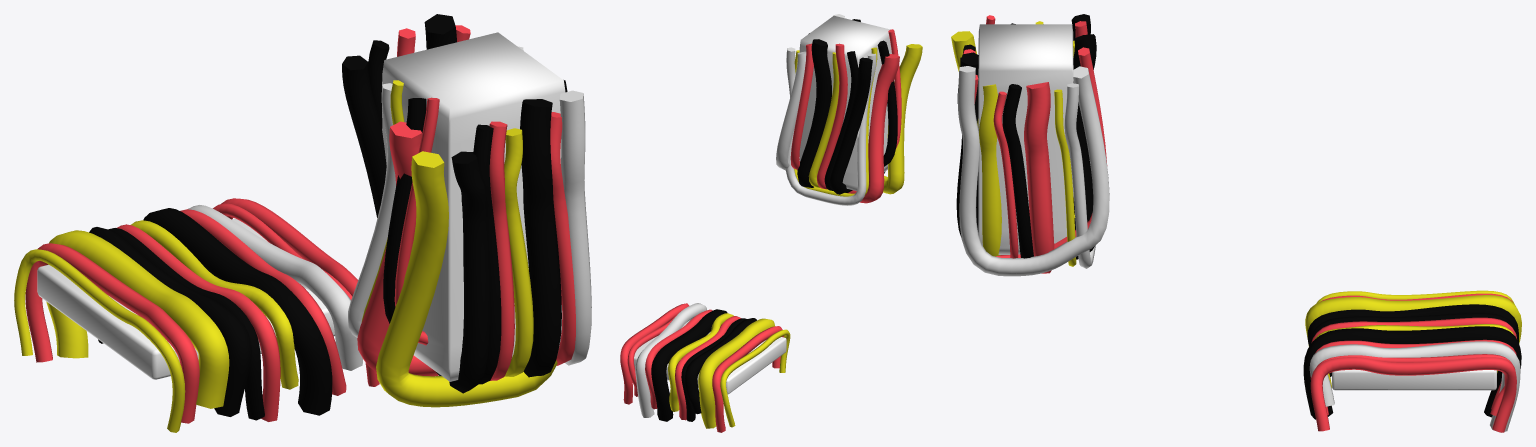
Rendered from PlatformAndGrapplingPoint.fbx.
The picture shows the model from 3 angles, left to right: view 1: azimuth 30°, elevation 25°; view 2: azimuth 150°, elevation 25°; view 3: azimuth 270°, elevation 25°; orthographic projection. The views are drawn at different scales.
Parts seen in each view (by area): view 1: Cube.008, Cube.007; view 2: Cube.008, Cube.007; view 3: Cube.008, Cube.007.
Part boxes in pixels (x1,y1,x2,y2): Cube.008: (342,14,591,407); Cube.007: (14,198,379,432); Cube.008: (776,14,922,205); Cube.007: (620,303,790,432); Cube.008: (951,14,1109,276); Cube.007: (1303,290,1521,432).
Size of the model in its own units: 3.9 by 7.61 by 10.38.
